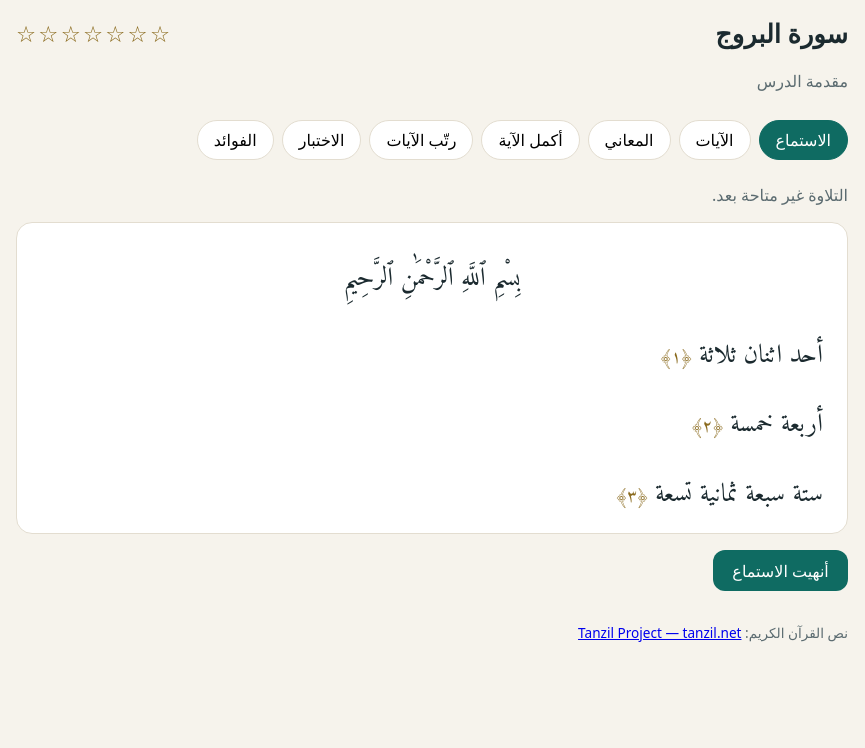
a lesson with reviewed content › APPROVED: adds its sections and its prose, shows the tafsir under the selected ayah, and still never a flagged line
Expected: the heading "سورة البروج" is shown, [715,16,848,51]
Expected: the text "مقدمة الدرس" is shown, [757,70,848,92]
Click the button "الآيات".
click(714, 140)  # box [678,120,750,160]
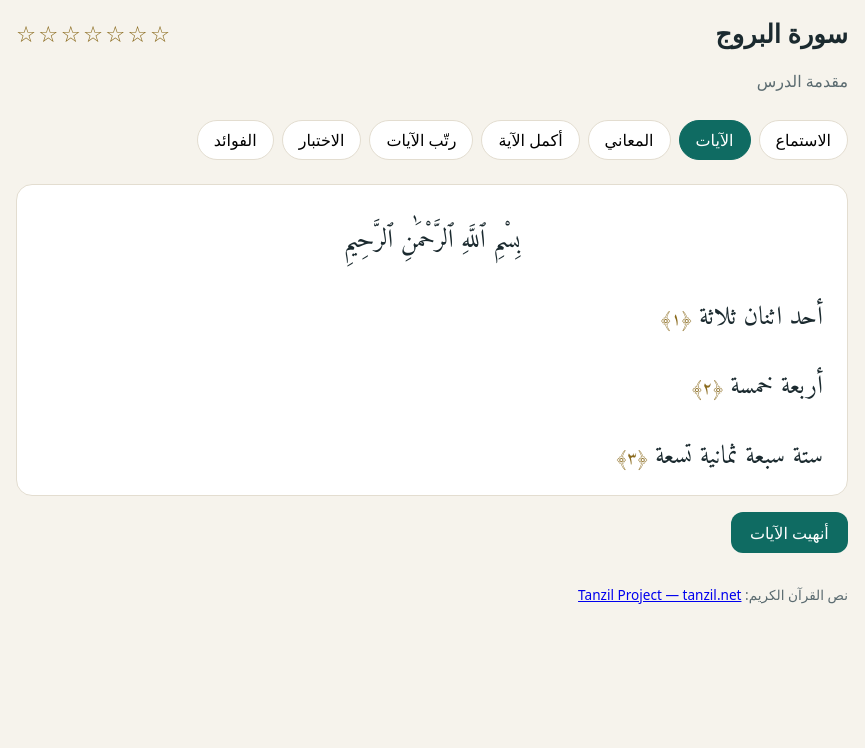
Click the button "أحد اثنان ثلاثة ﴿١﴾".
click(761, 309)  # box [17,279,831,340]
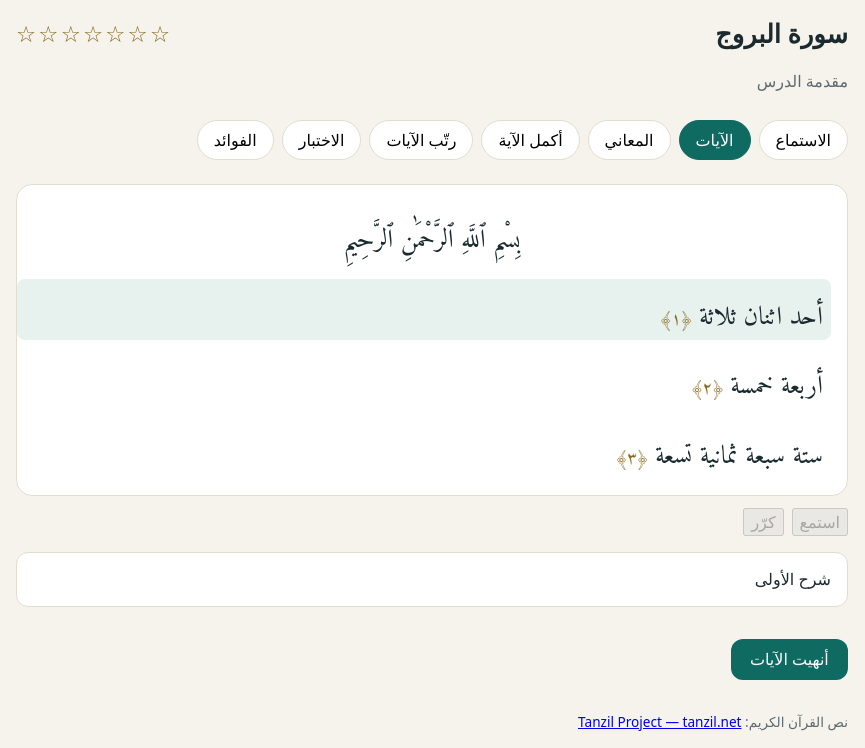
Expected: the text with test id "tafsir" reads "شرح الأولى", [755,568,831,590]
Click the button "أربعة خمسة ﴿٢﴾".
click(777, 378)  # box [17,348,831,410]
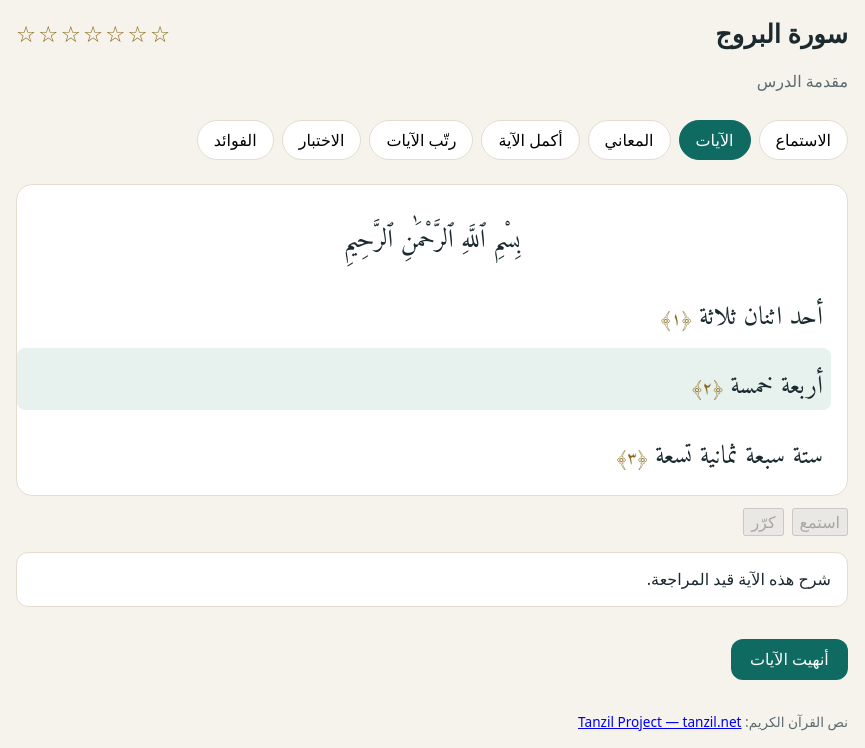
Expected: the text with test id "tafsir" shows "قيد المراجعة", [647,568,831,590]
